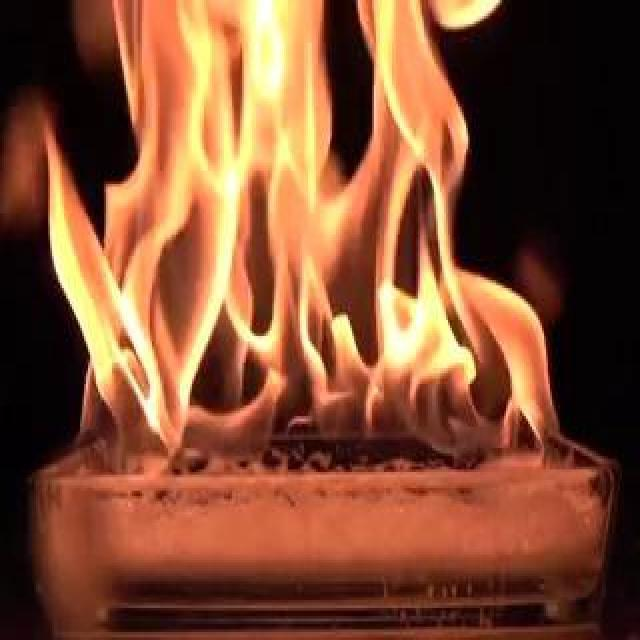Fire: (41, 0, 564, 472)
